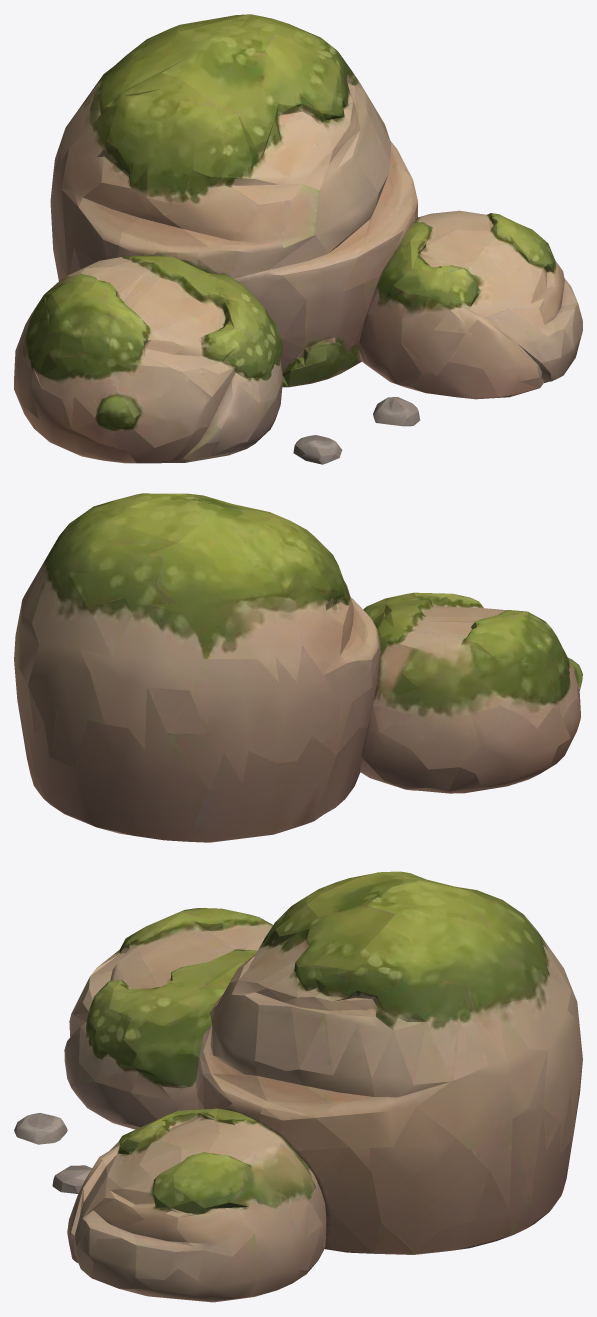
Rendered from rock-cluster.glb.
3 views of the same model, one above another, from view 1: azimuth 30°, elevation 25°; view 2: azimuth 150°, elevation 25°; view 3: azimuth 270°, elevation 25° (orthographic). The views are drawn at different scales.
Size of the model in its own units: 1.9 by 0.9666 by 1.67.
1 material, 1 textured.
